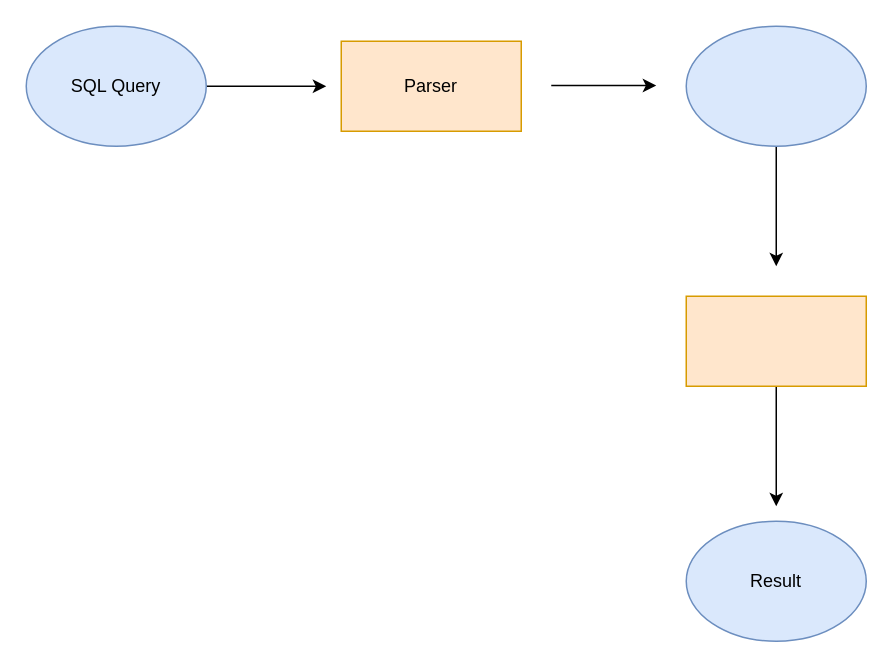
Some shapes in this 893 by 668 pixel diagram are drawn without their labels. Here are the shapes that lost their labels. From the top down, the centre of each, then its label:
the point at 775,85: Generated Futhark Code
the point at 775,340: GPU (Query Engine)
